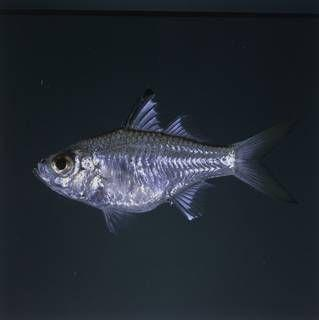Glass Perchlet: (35, 97, 301, 232)
